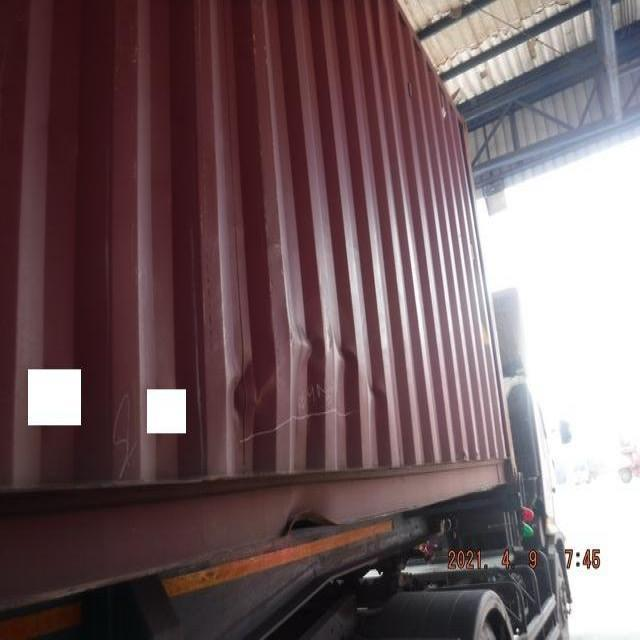Dent: (220, 311, 393, 429)
